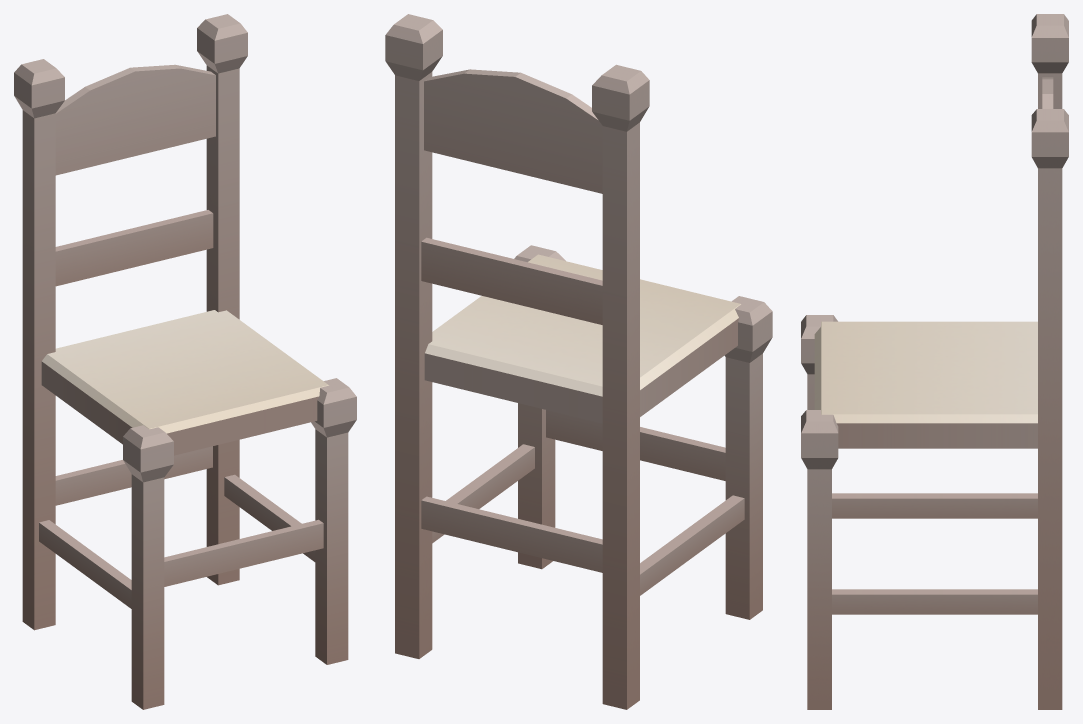
Rendered from Silla.obj.
3 renders of one model, left to right at view 1: azimuth 30°, elevation 25°; view 2: azimuth 150°, elevation 25°; view 3: azimuth 270°, elevation 25°, orthographic. The views are drawn at different scales.
Parts seen in each view (by area): view 1: Silla.obj; view 2: Silla.obj; view 3: Silla.obj.
Part boxes in pixels (x1,y1,x2,y2): Silla.obj: (14,14,356,709); Silla.obj: (385,14,772,709); Silla.obj: (801,14,1068,709).
Bounding box in the file's own units: 0.39 × 0.96 × 0.395.
